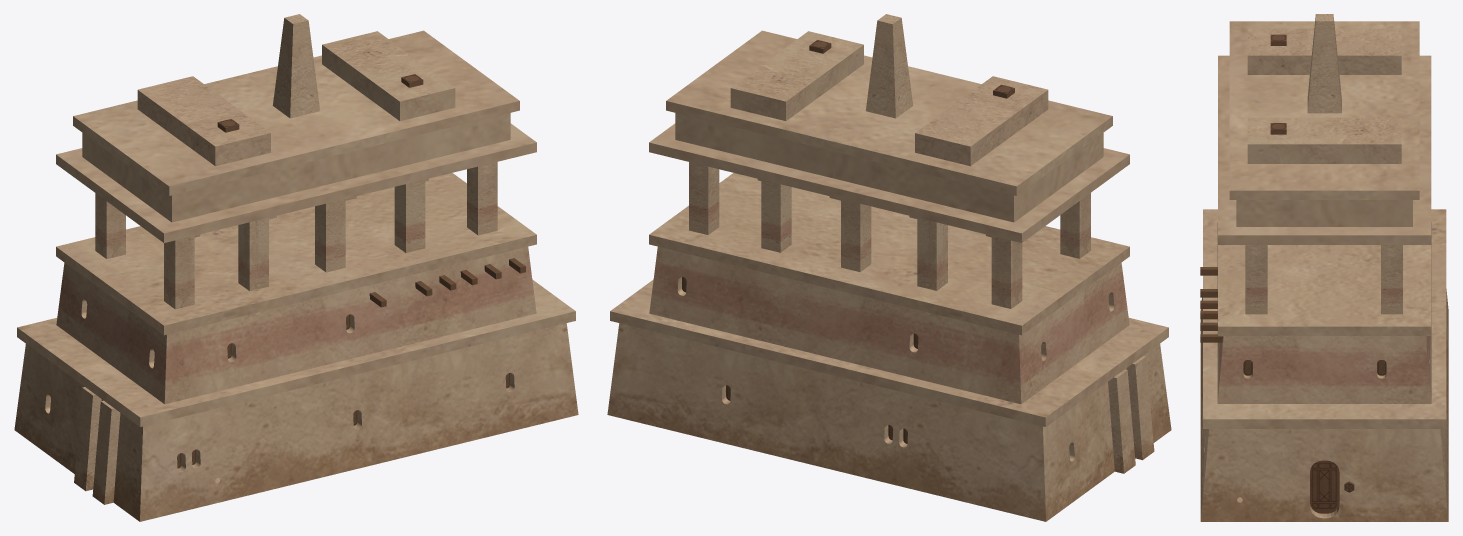
File: building_2.glb
The picture shows the model from 3 angles, left to right: view 1: azimuth 30°, elevation 25°; view 2: azimuth 150°, elevation 25°; view 3: azimuth 270°, elevation 25°; orthographic projection.
Visible parts, largest first — view 1: Object_9.001; view 2: Object_9.001; view 3: Object_9.001.
Boxes of the visible parts, x1,y1,x2,y2 form: Object_9.001: (14,14,578,521); Object_9.001: (607,14,1171,521); Object_9.001: (1200,14,1448,521).
Size of the model in its own units: 19.42 by 16.71 by 9.44.
Materials: 1 (1 with a texture image).
